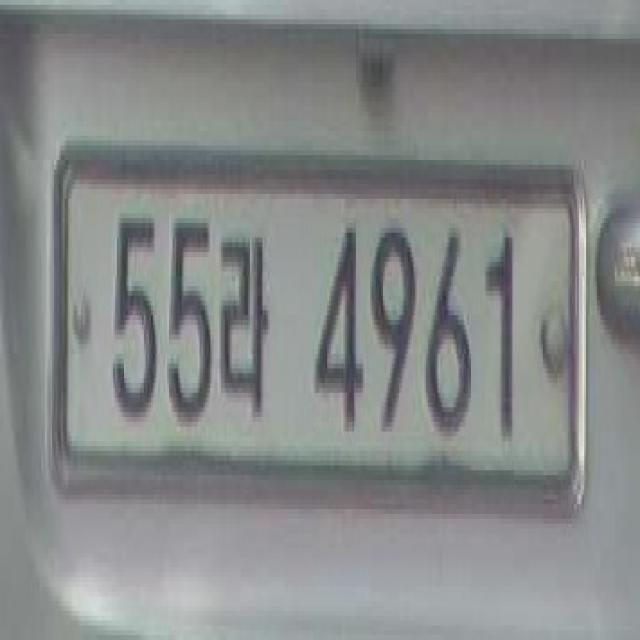1: (478, 198, 525, 439)
4: (310, 200, 366, 436)
5: (160, 202, 214, 422), (106, 204, 156, 416)
6: (423, 200, 475, 434)
9: (368, 202, 420, 439)
la: (216, 200, 272, 419)
license_plate: (47, 117, 591, 520)
